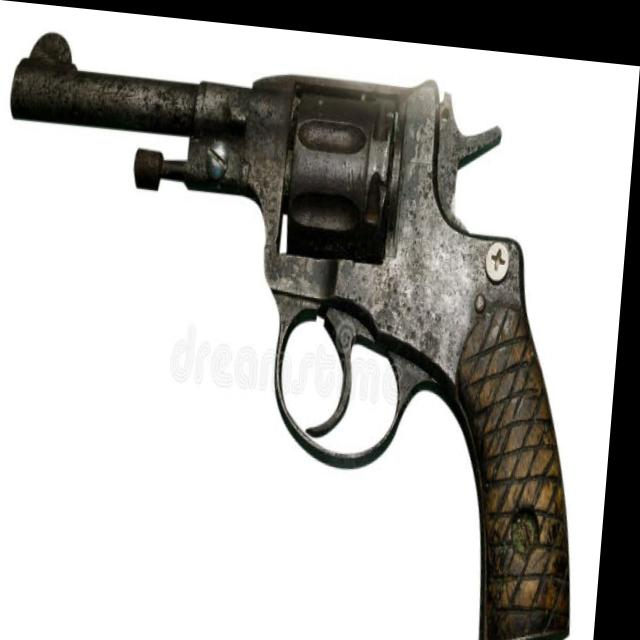handgun: (0, 26, 615, 640)
